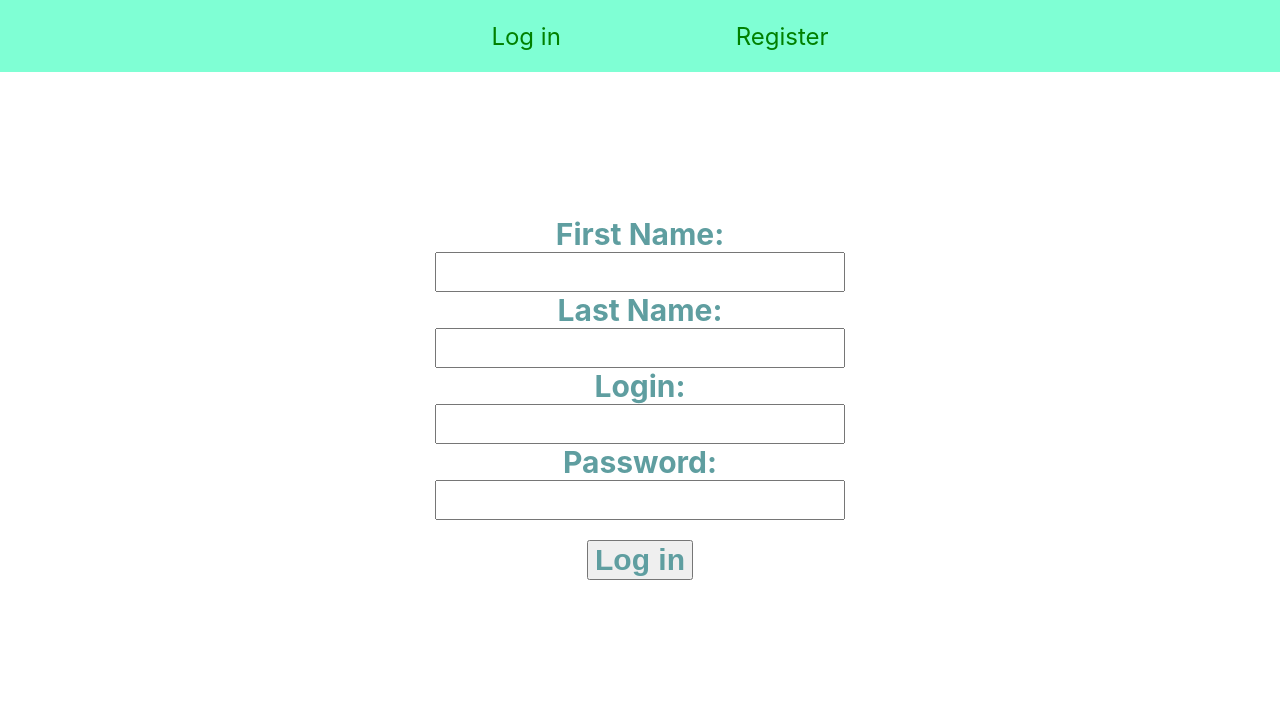
Test: registering › register bad
The width and height of the screenshot is (1280, 720).
In the field with id "first": (640, 272) [435, 252, 845, 292], type "Chelovechek"
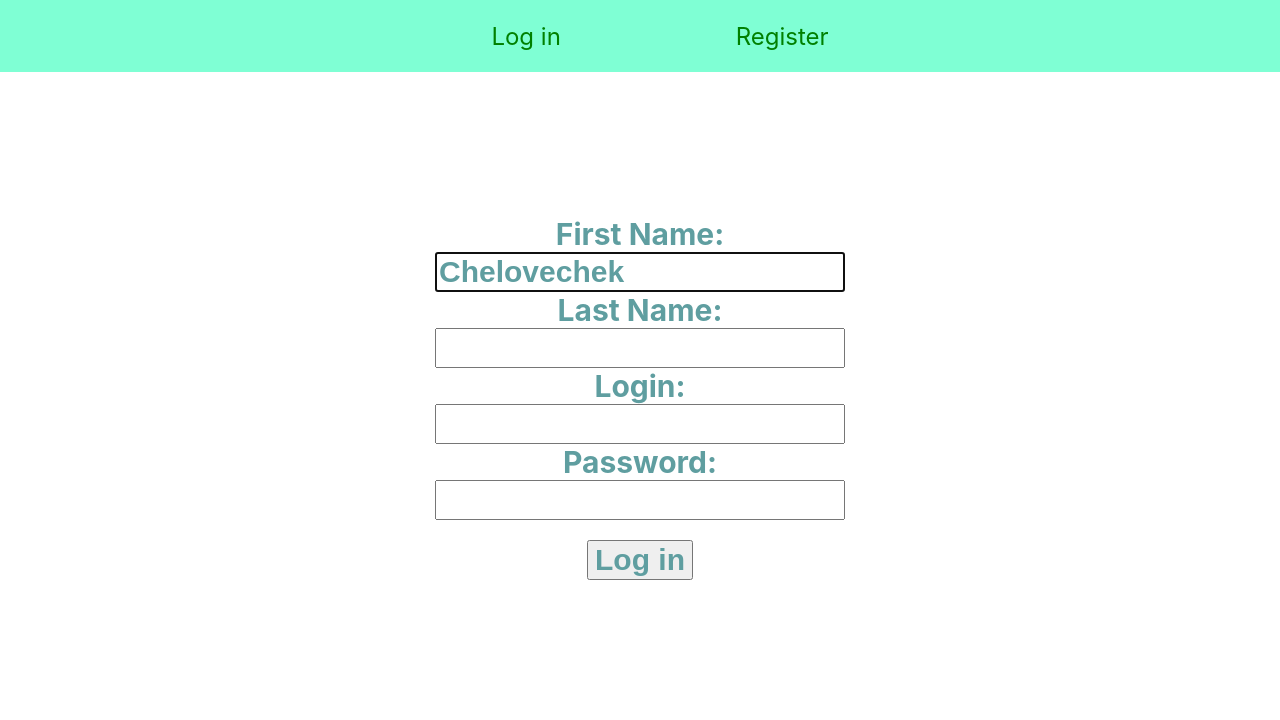
In the field with id "last": (640, 348) [435, 328, 845, 368], type "bebebebe"
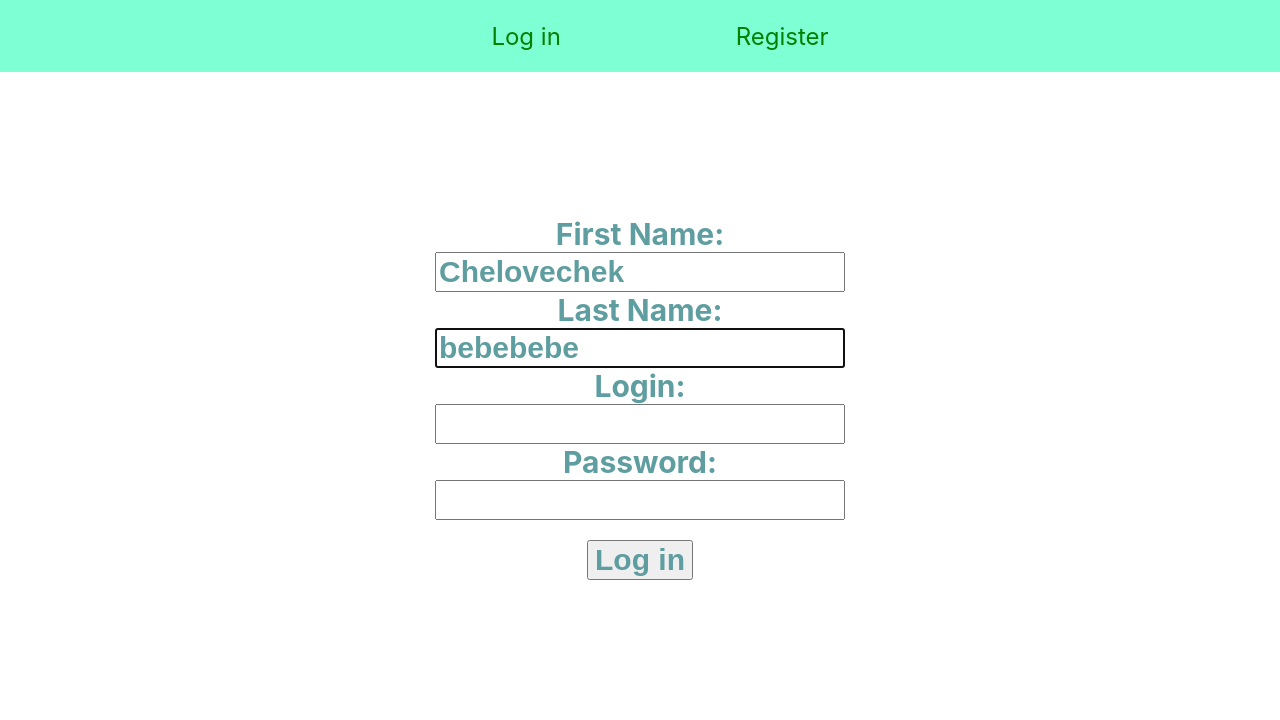
In the field with id "login": (640, 424) [435, 404, 845, 444], type "jake"
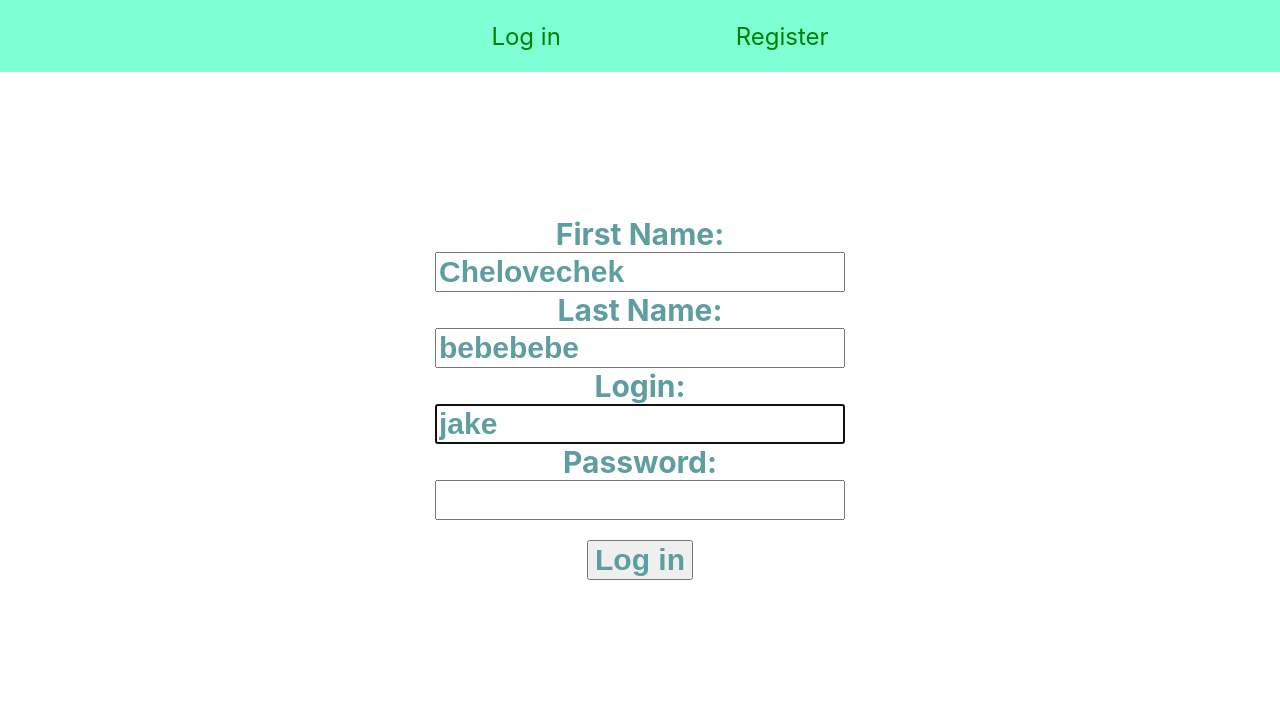
In the 4th field: (640, 500) [435, 480, 845, 520], type "dog"
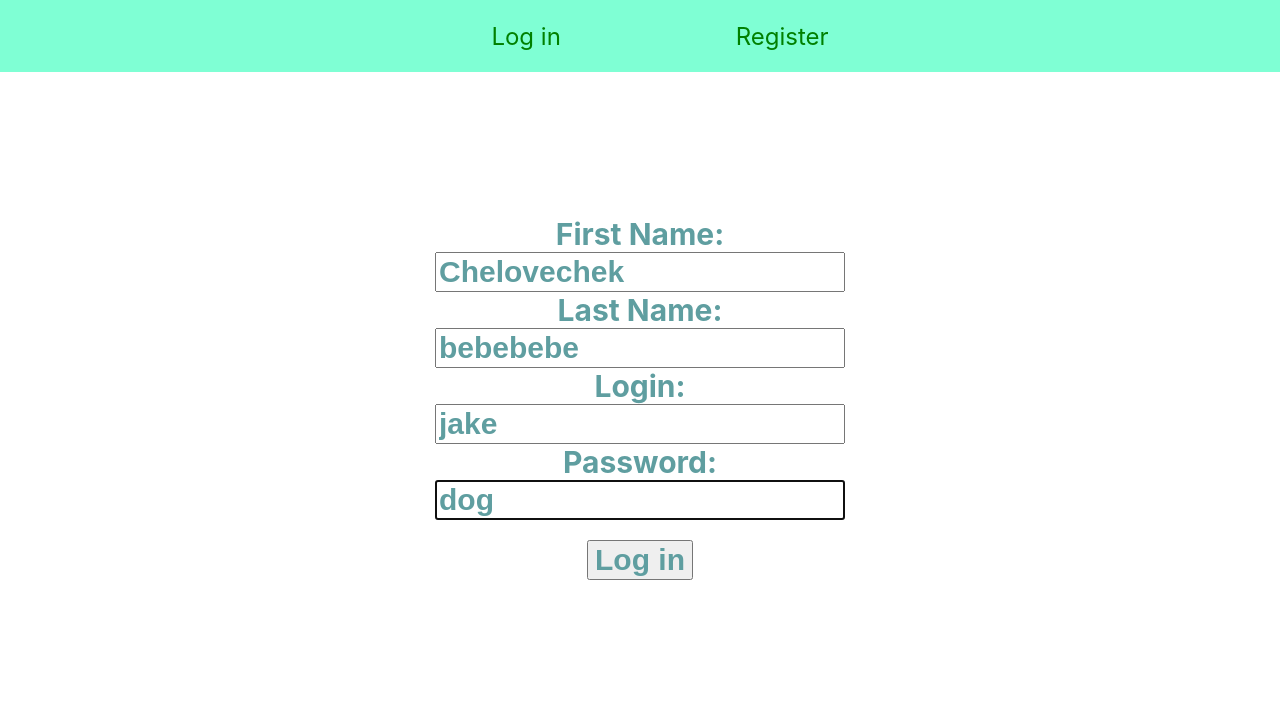
Click the button with class "submitButton": (640, 560) [587, 540, 693, 580]
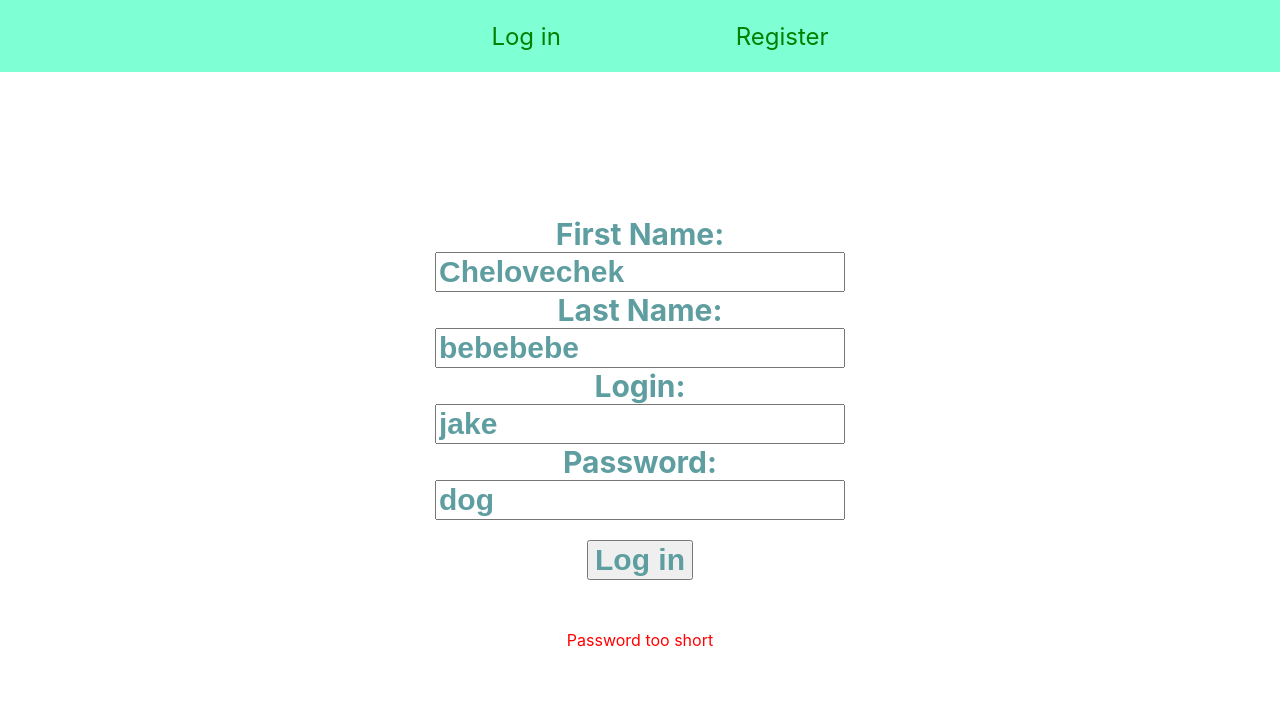
Expected: the text "Password too short" is shown, [567, 630, 713, 650]
